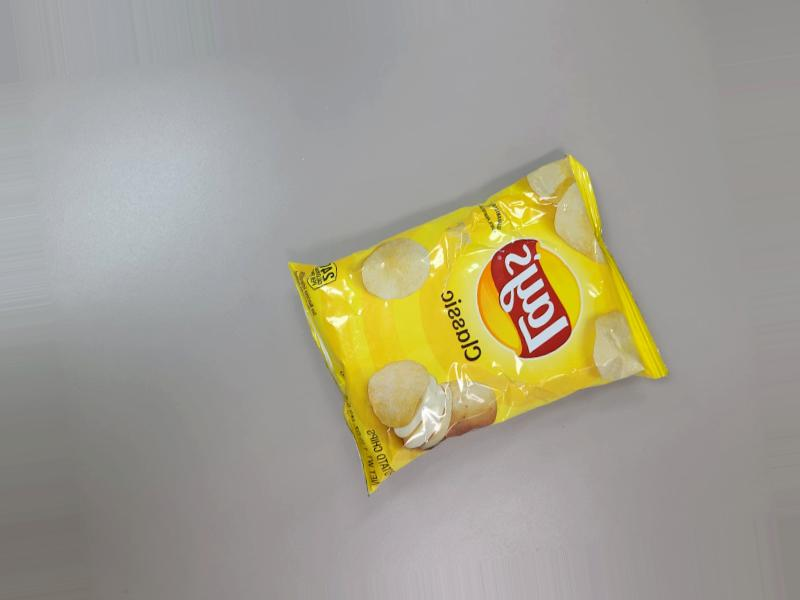lays: (286, 169, 687, 512)
